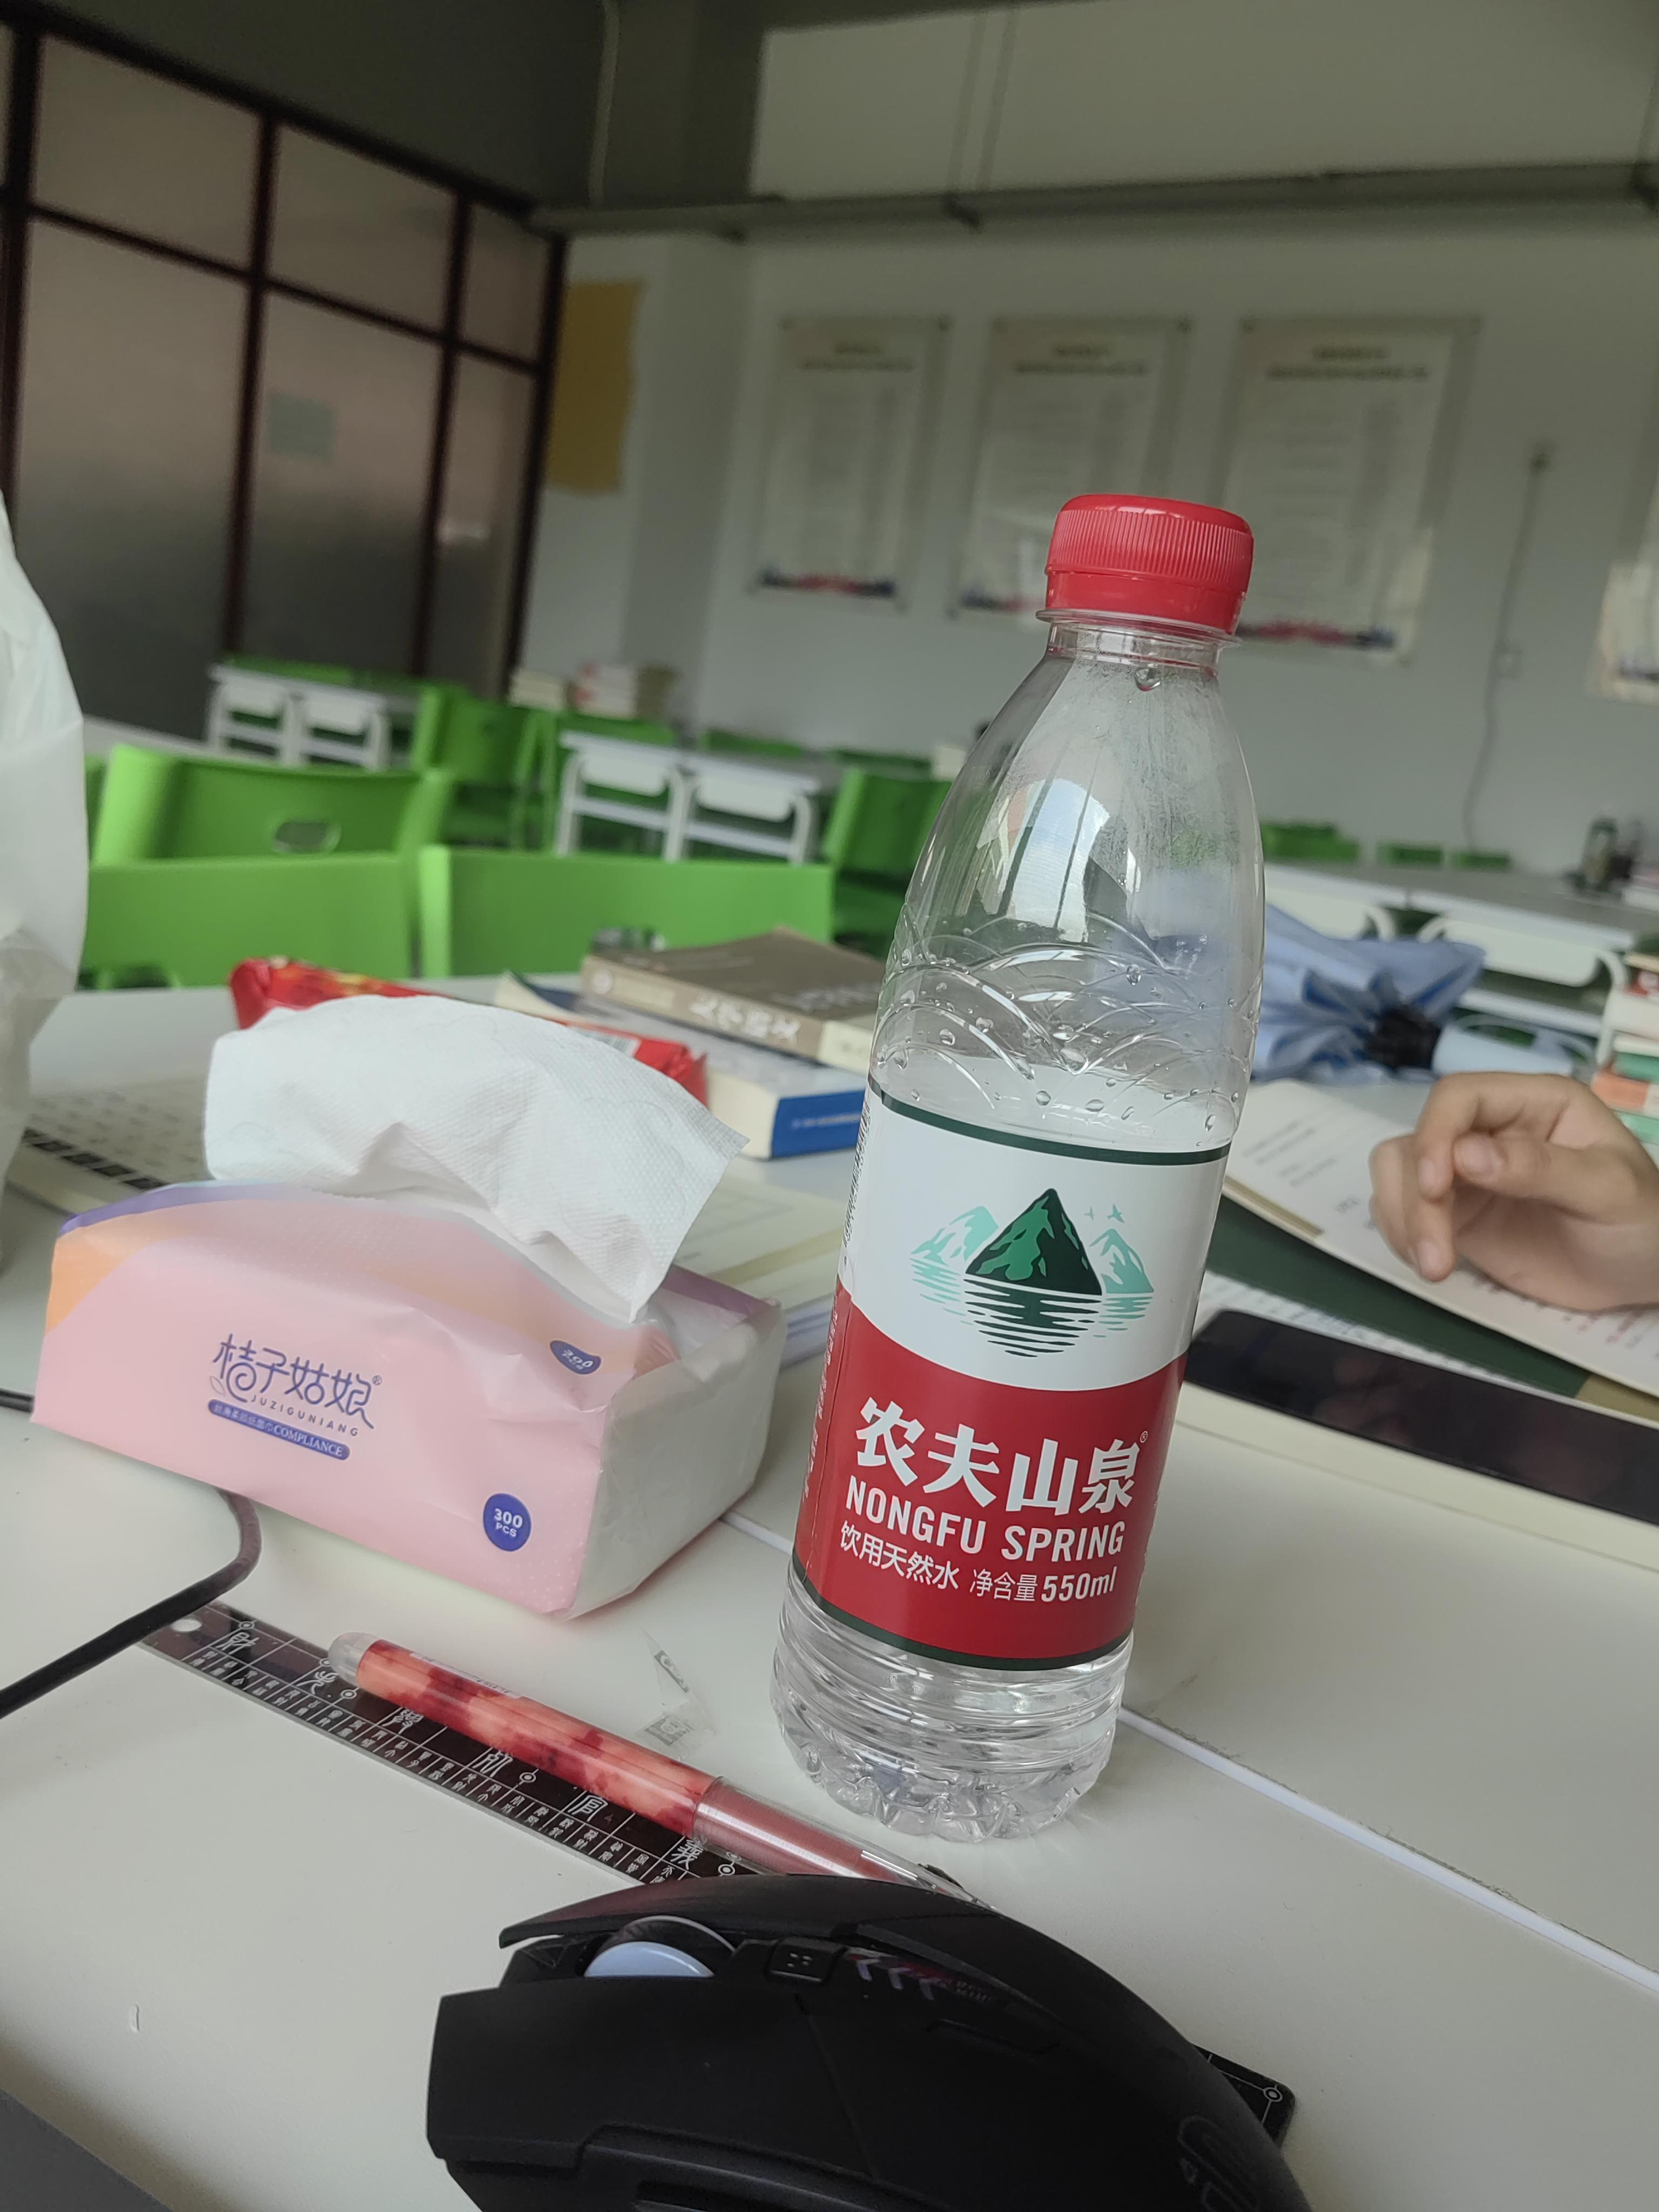BIODEGRADABLE: (775, 471, 1260, 1831)
